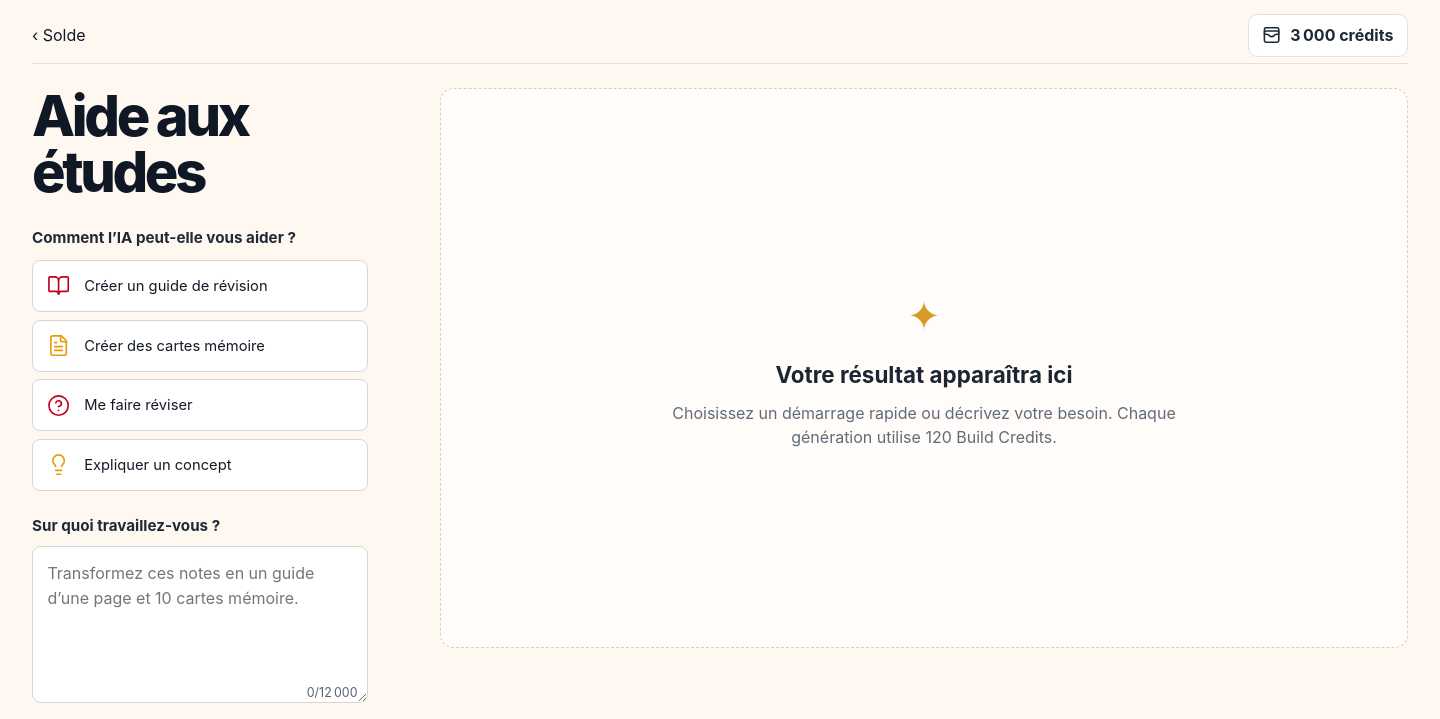
Test: TaskShell › maps a paused save response to localized pause guidance in fr
The width and height of the screenshot is (1440, 719).
Click the button "Créer un guide de révision" at (200, 286), box [32, 260, 368, 312]
(page scrolled)
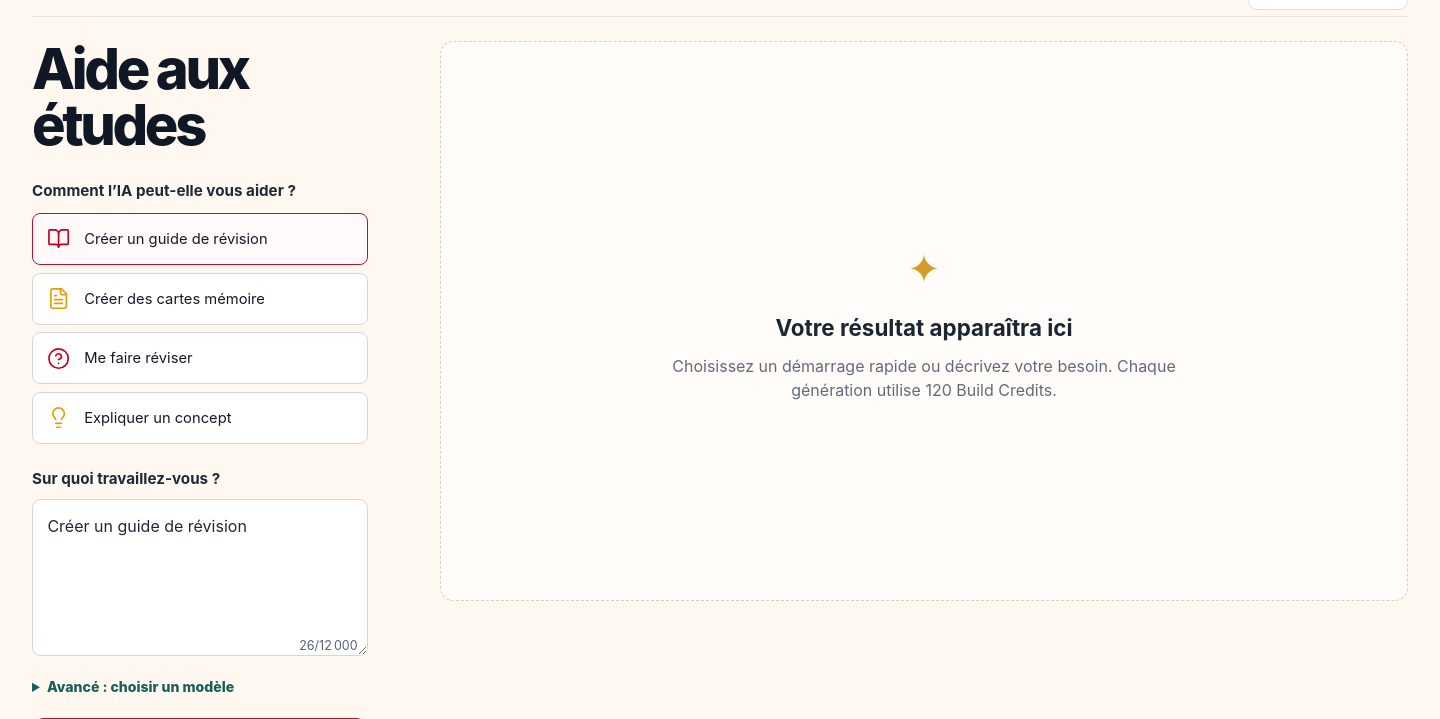
Submit the form
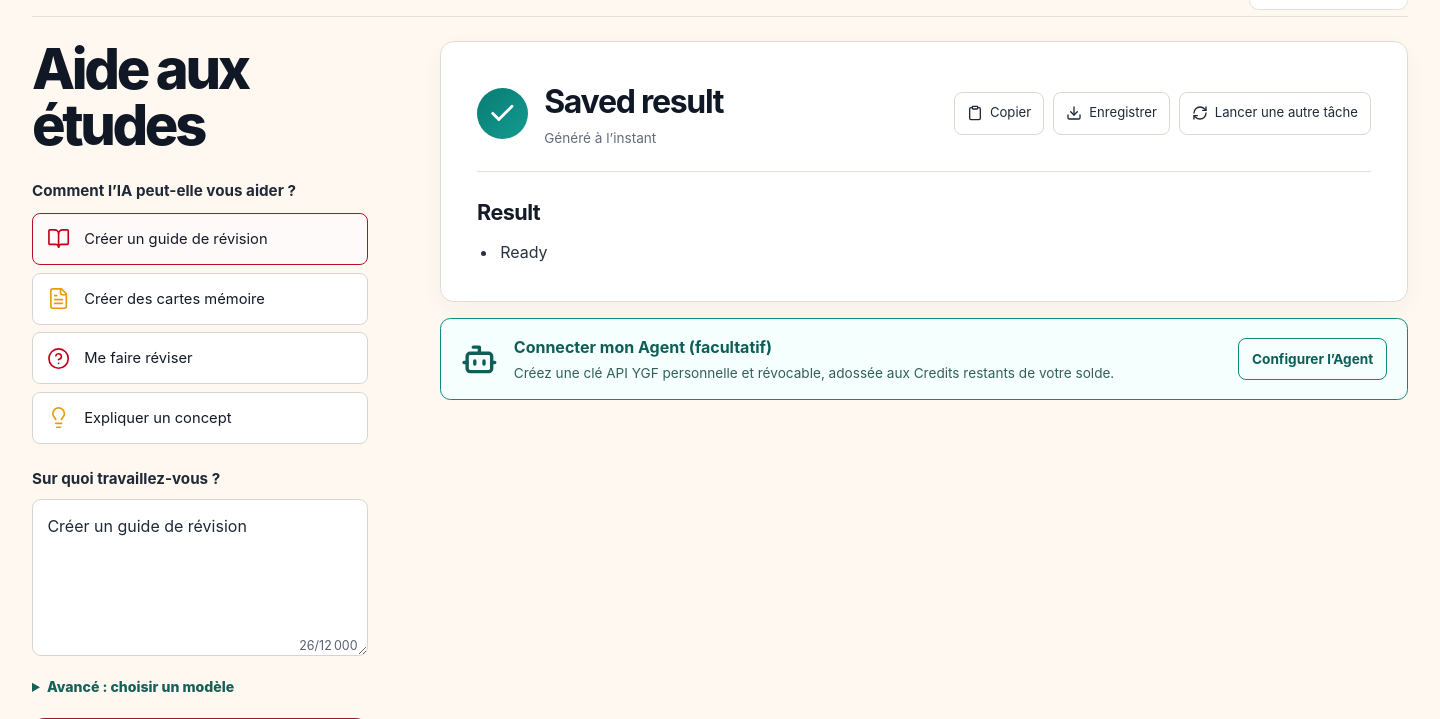
Check: the button "Enregistrer" is shown
Click the button "Enregistrer" at (1111, 113), box [1053, 92, 1170, 135]
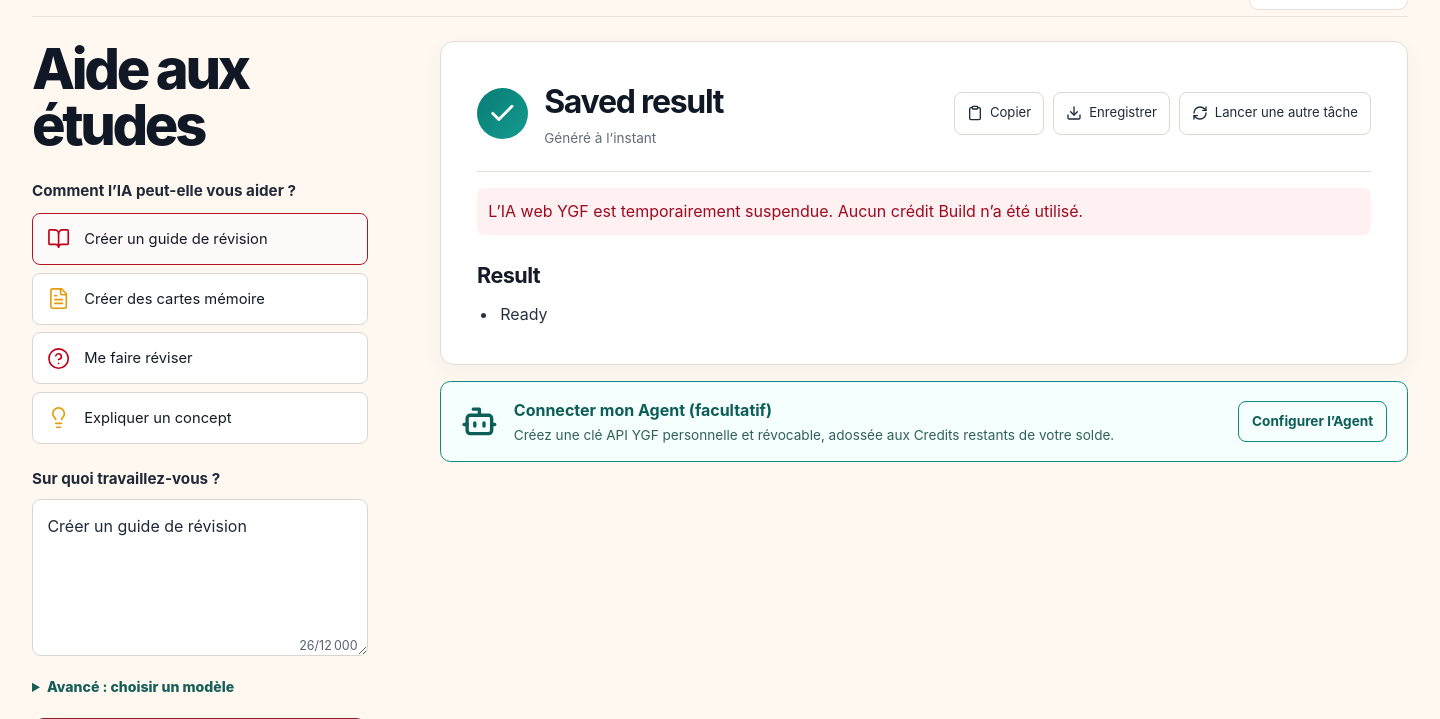
Check: the text "L’IA web YGF est temporairement suspendue. Aucun crédit Build n’a été utilisé." is shown, box [477, 188, 1371, 235]
